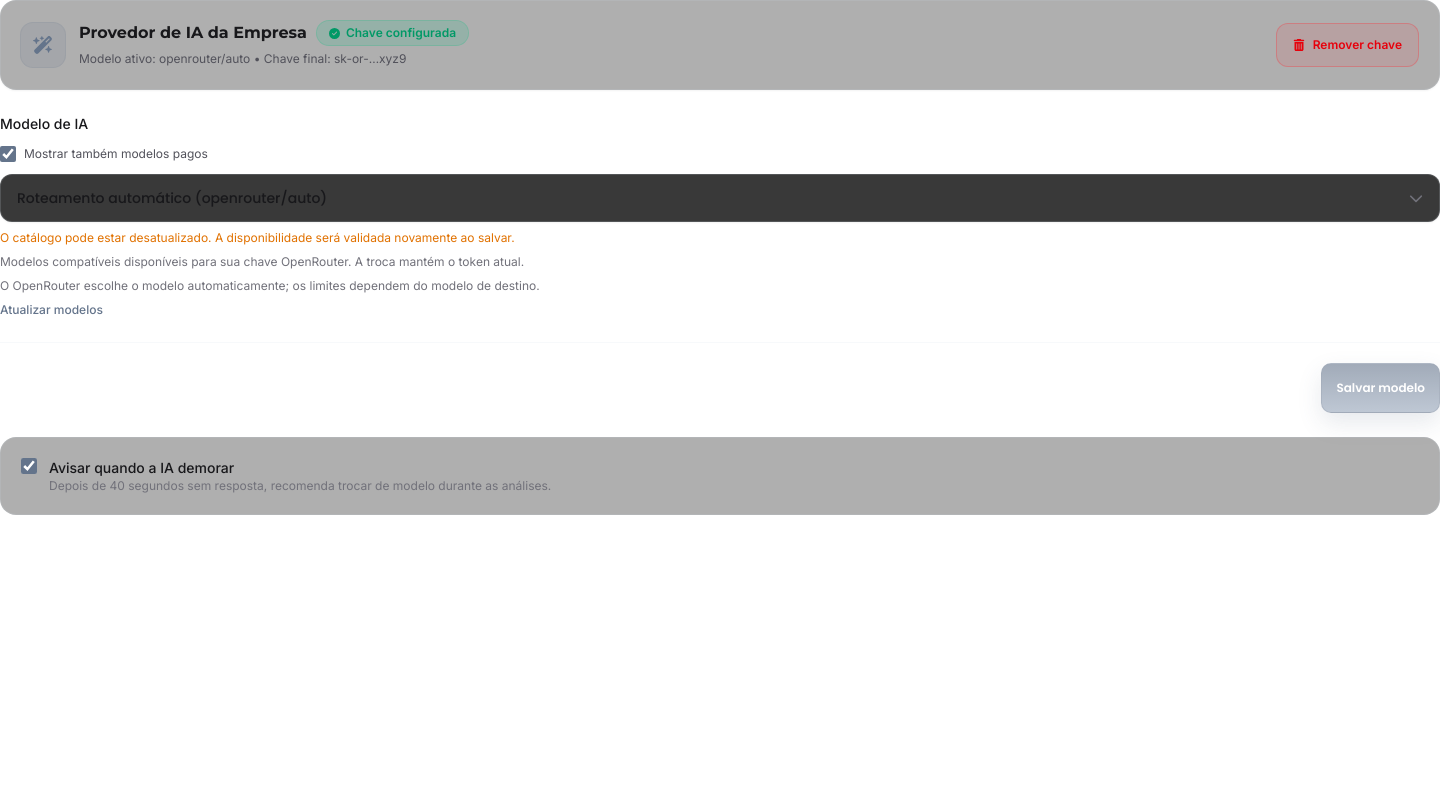
Test: FormIaSettings — cadastro e remoção da chave › avisa quando o catálogo é antigo; seleção será revalidada pelo Gateway ao salvar
Expected: the text "O catálogo pode estar desatualizado" is shown, [0,230,515,244]
Step 1. Click the dropdown named "Modelo de IA" → [172, 198], box [0,174,1439,222]
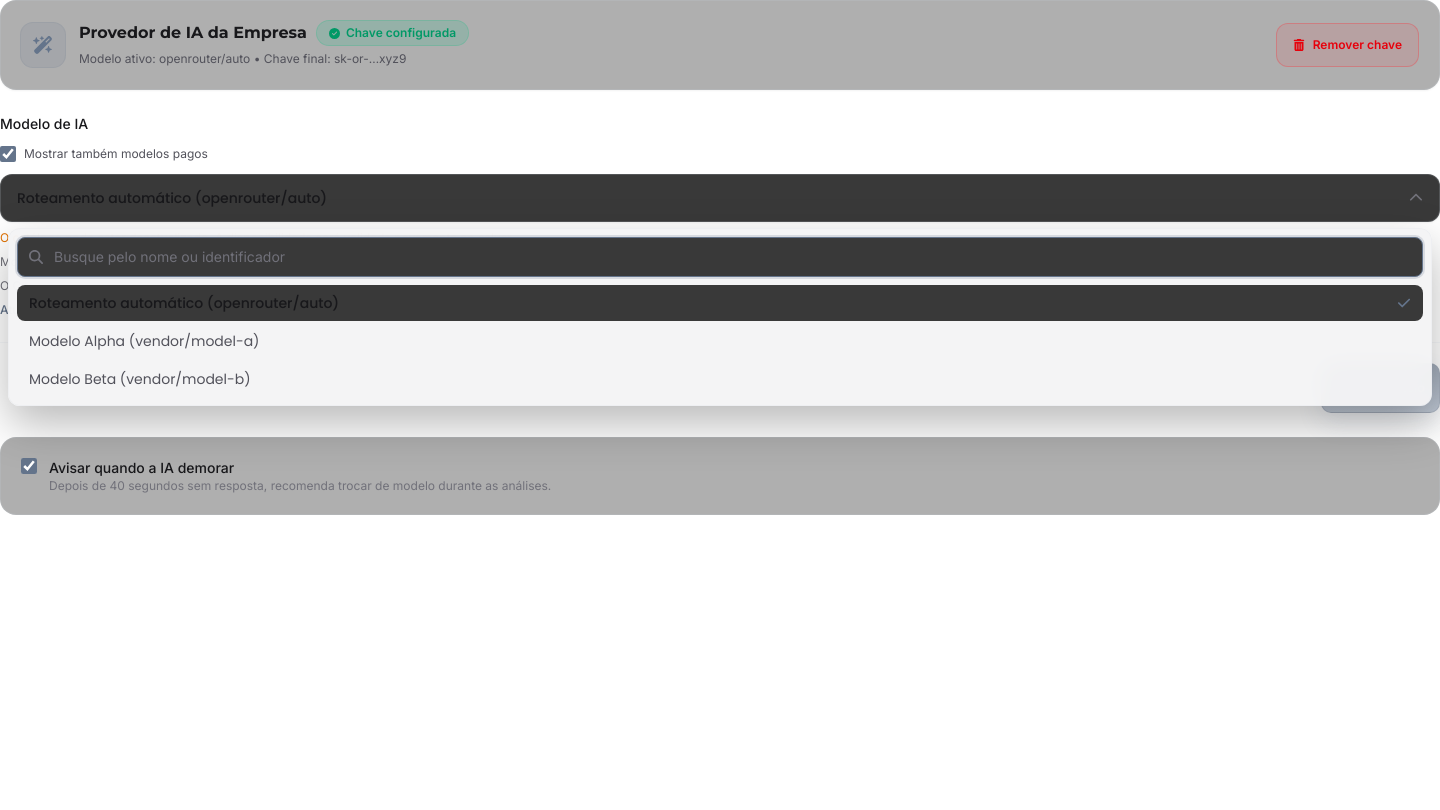
Step 2. Click the option "Modelo Alpha (vendor/model-a)" → [144, 340], box [17,322,1423,358]
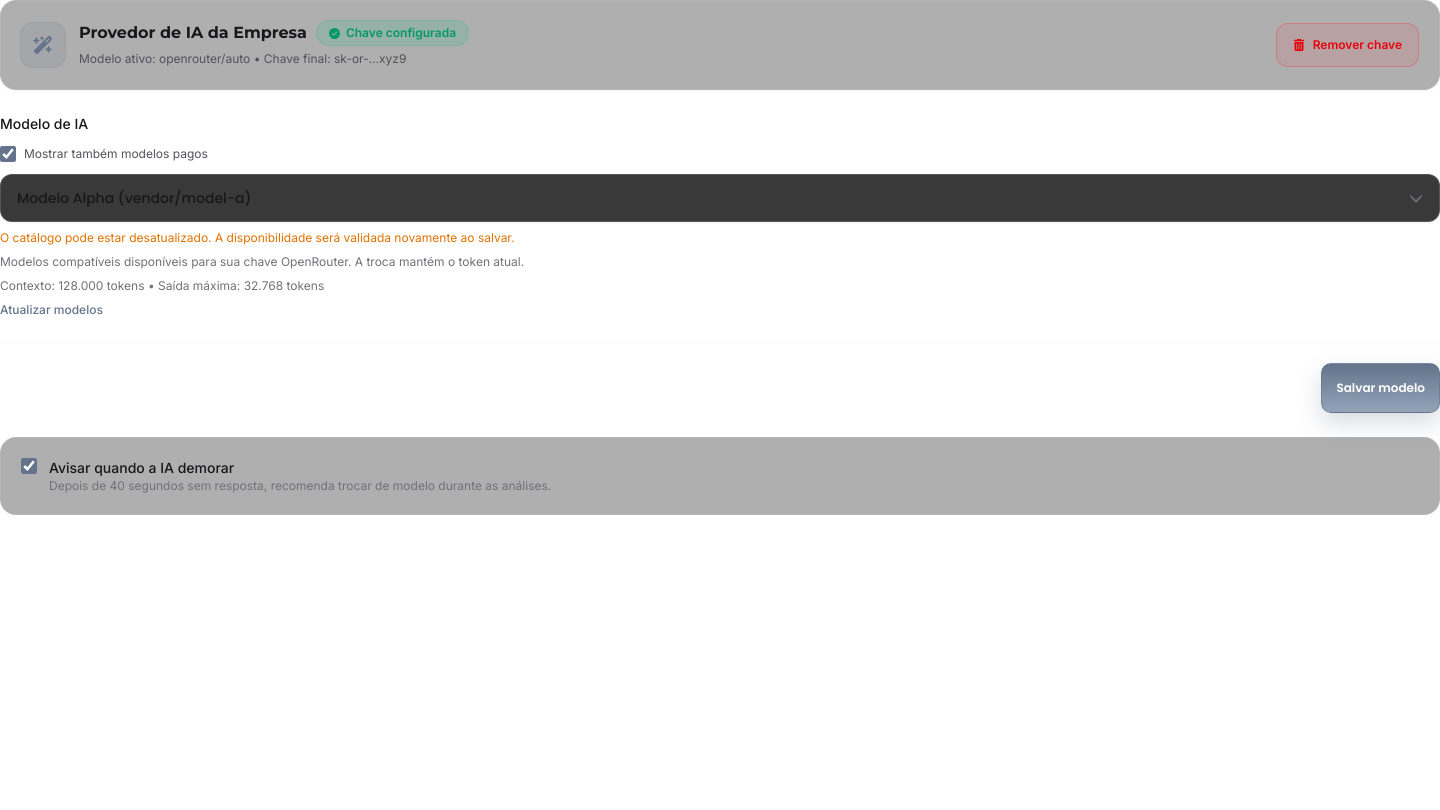
Expected: the button "Salvar modelo" is enabled, [1321,362,1439,412]
